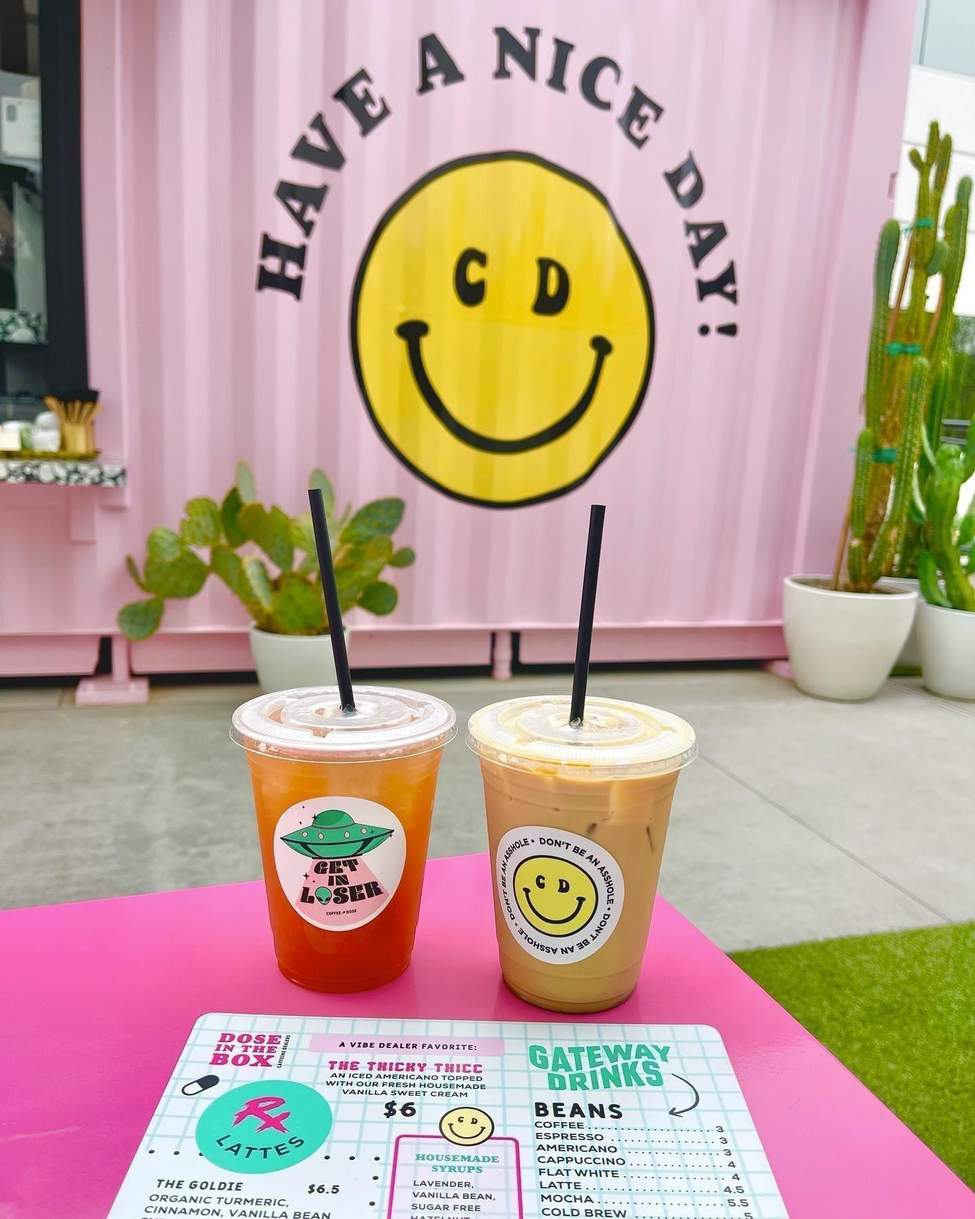cup-disposable: (464, 689, 703, 1019), (230, 682, 464, 998)
